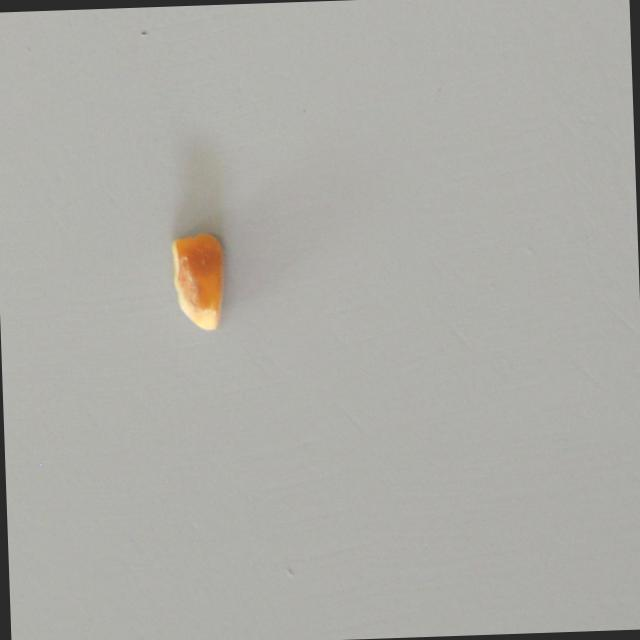dañado: (160, 222, 233, 335)
